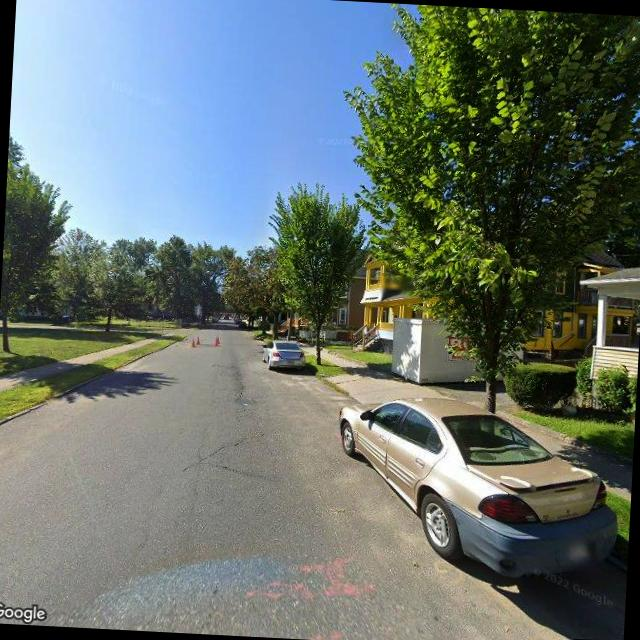crack: (182, 431, 258, 475)
